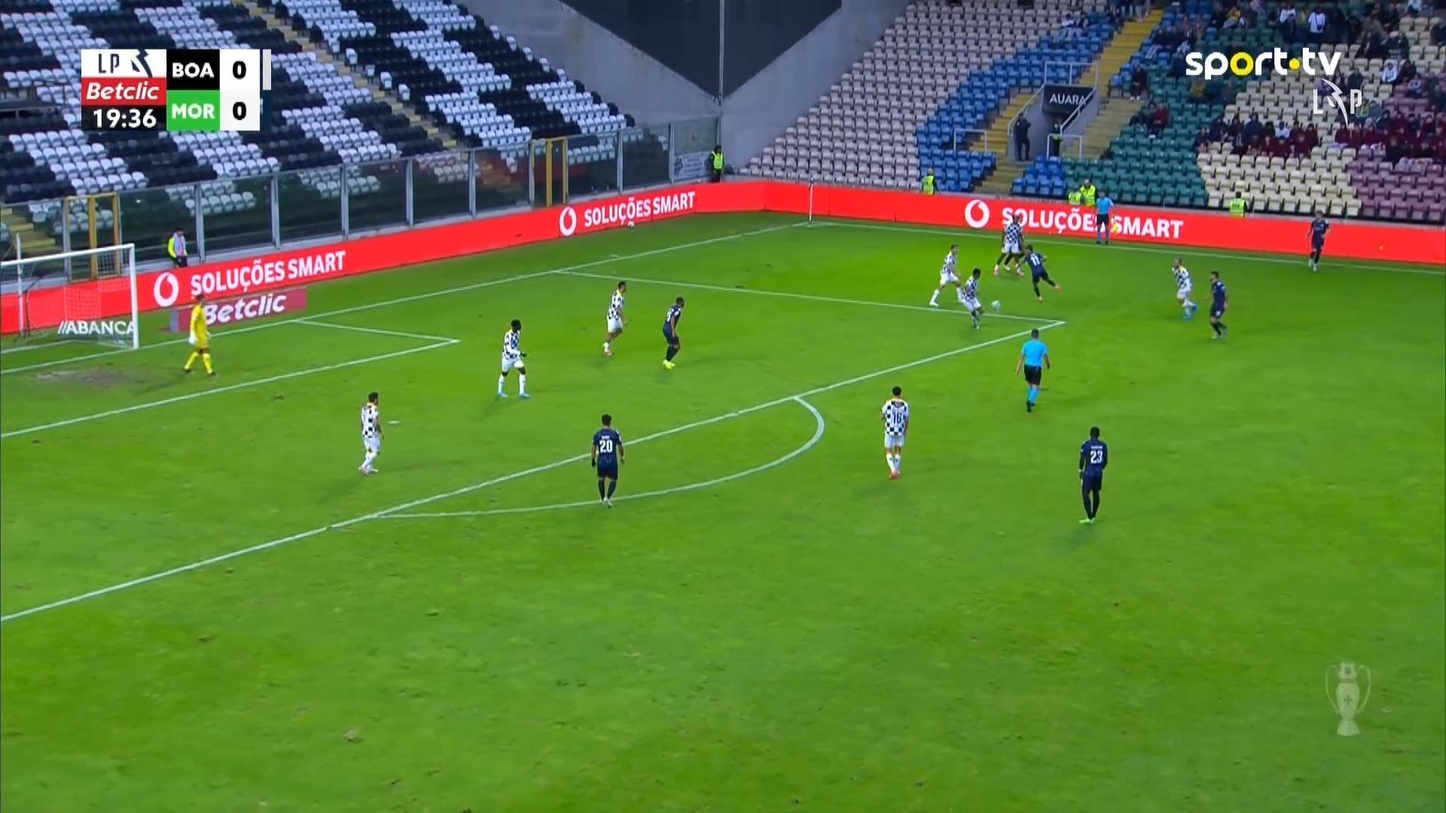ball: (990, 300, 1000, 311)
goalkeeper: (182, 293, 217, 376)
player: (590, 413, 625, 507), (1077, 425, 1107, 523), (880, 385, 909, 479), (1016, 242, 1060, 303), (496, 318, 529, 398), (601, 280, 630, 357), (358, 391, 384, 474), (929, 242, 962, 306), (993, 212, 1025, 276), (660, 295, 684, 369), (1170, 257, 1197, 319), (1305, 209, 1330, 271), (959, 266, 983, 328), (1207, 269, 1228, 339)
referee: (1014, 327, 1050, 413), (1094, 189, 1113, 245)
